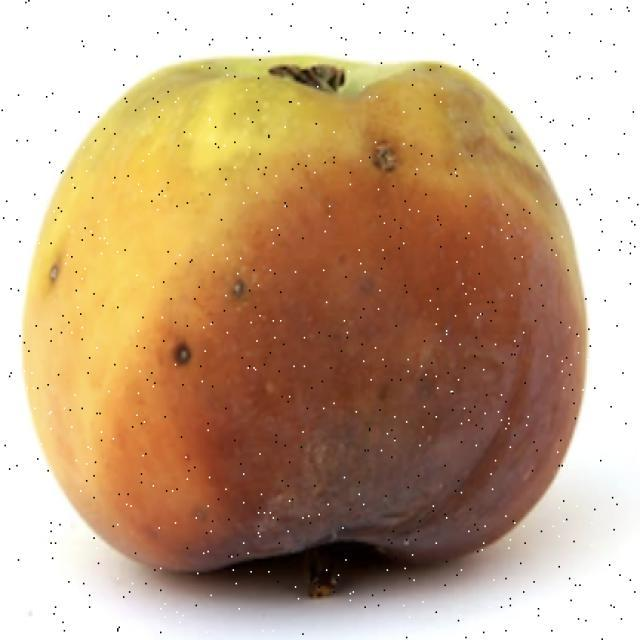Rotten: (16, 40, 592, 590)
